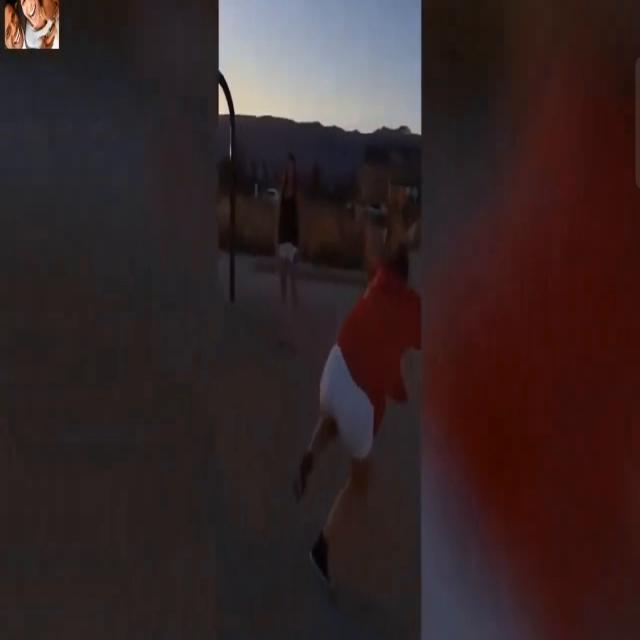fall: (295, 236, 416, 572)
